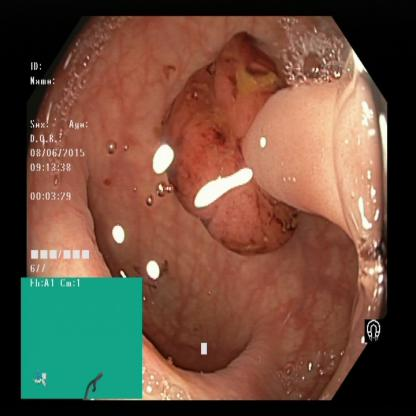Labels: (22, 275, 143, 398), (29, 60, 93, 276), (360, 316, 391, 346)
Polyps: (181, 84, 284, 240)
